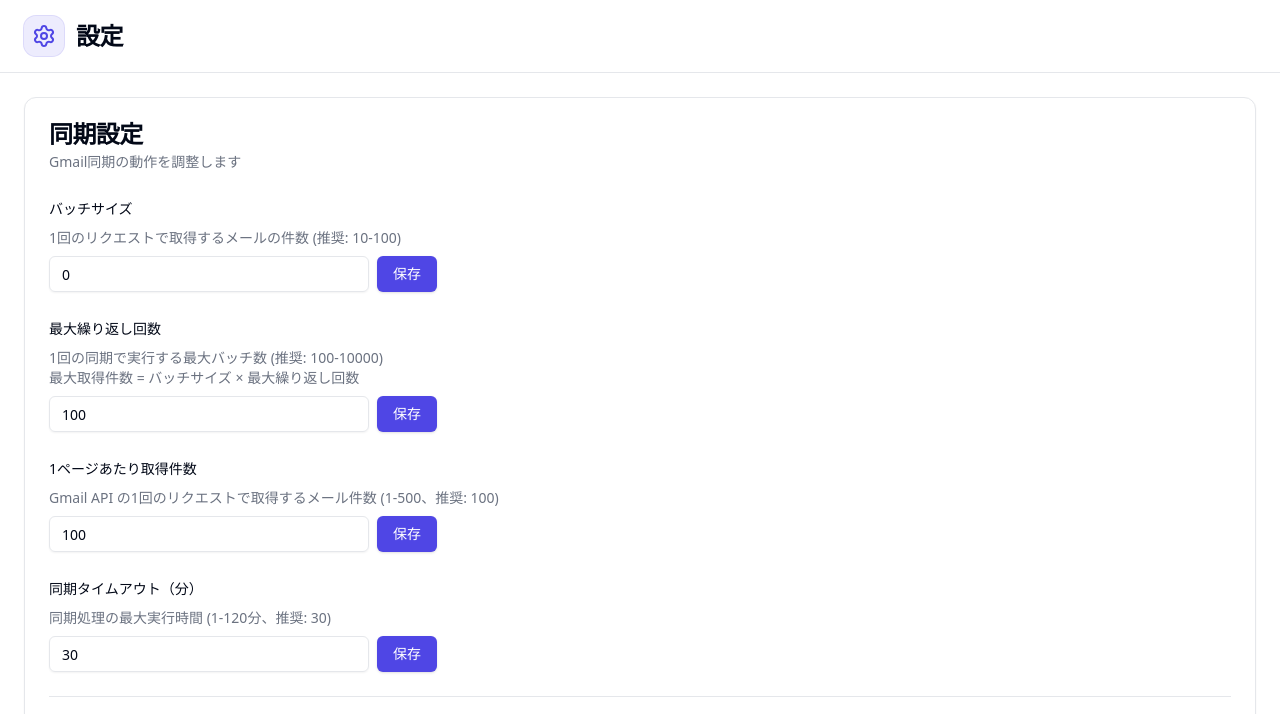
Settings › handleSaveBatchSize › shows validation error for invalid batch size
expect the number field with id "batch-size" is shown: met, box [49,256,369,292]
Click the button with aria-label "同期バッチサイズを保存".
click(407, 274)  # box [377,256,437,292]
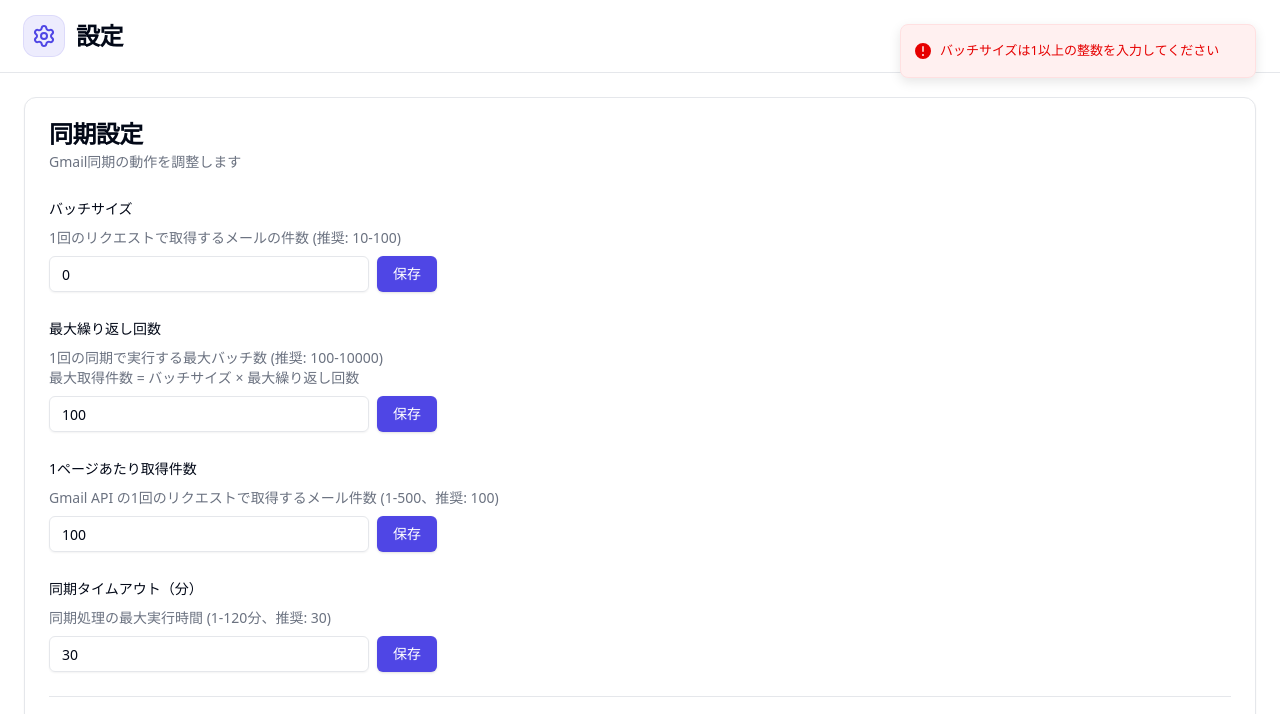
expect the text "バッチサイズは1以上の整数を入力してください" is shown: met, box [940,41,1219,60]
